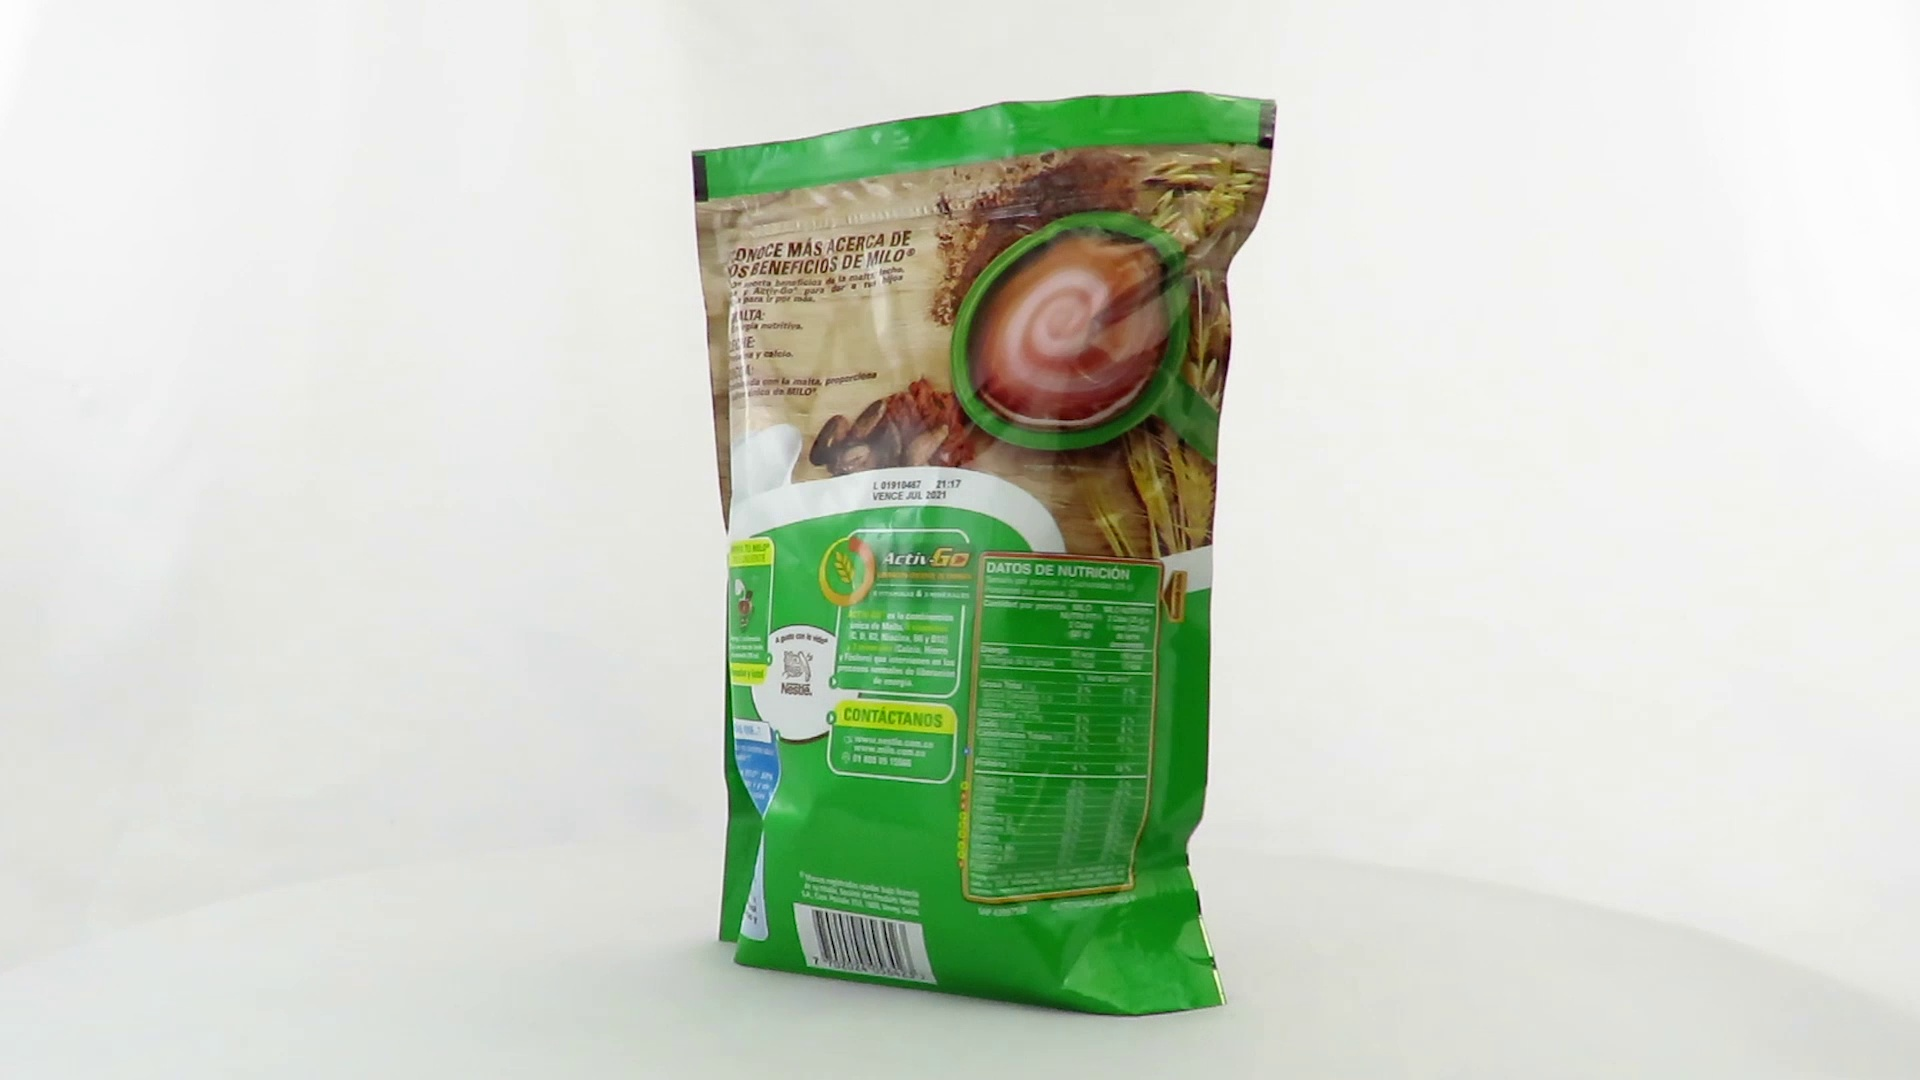COL0170205DYP50000: (686, 84, 1283, 1025)
